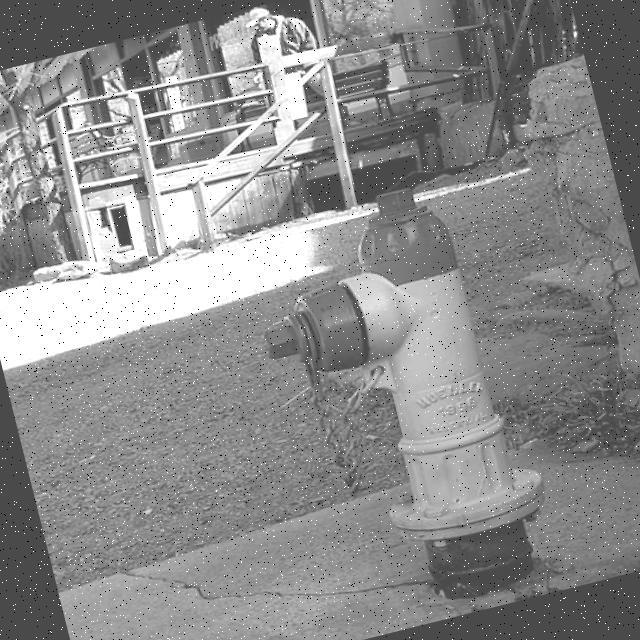fire_hydrant: (229, 170, 566, 630)
